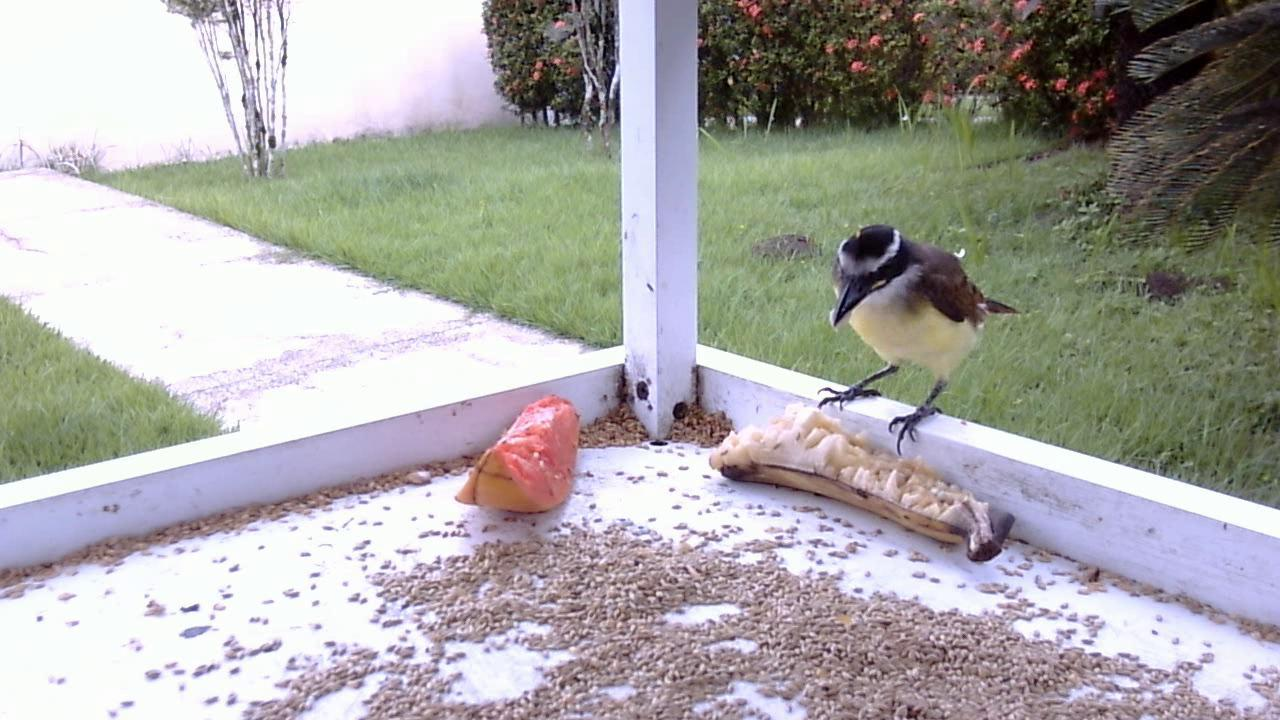bem_te_vi: (805, 212, 1025, 461)
